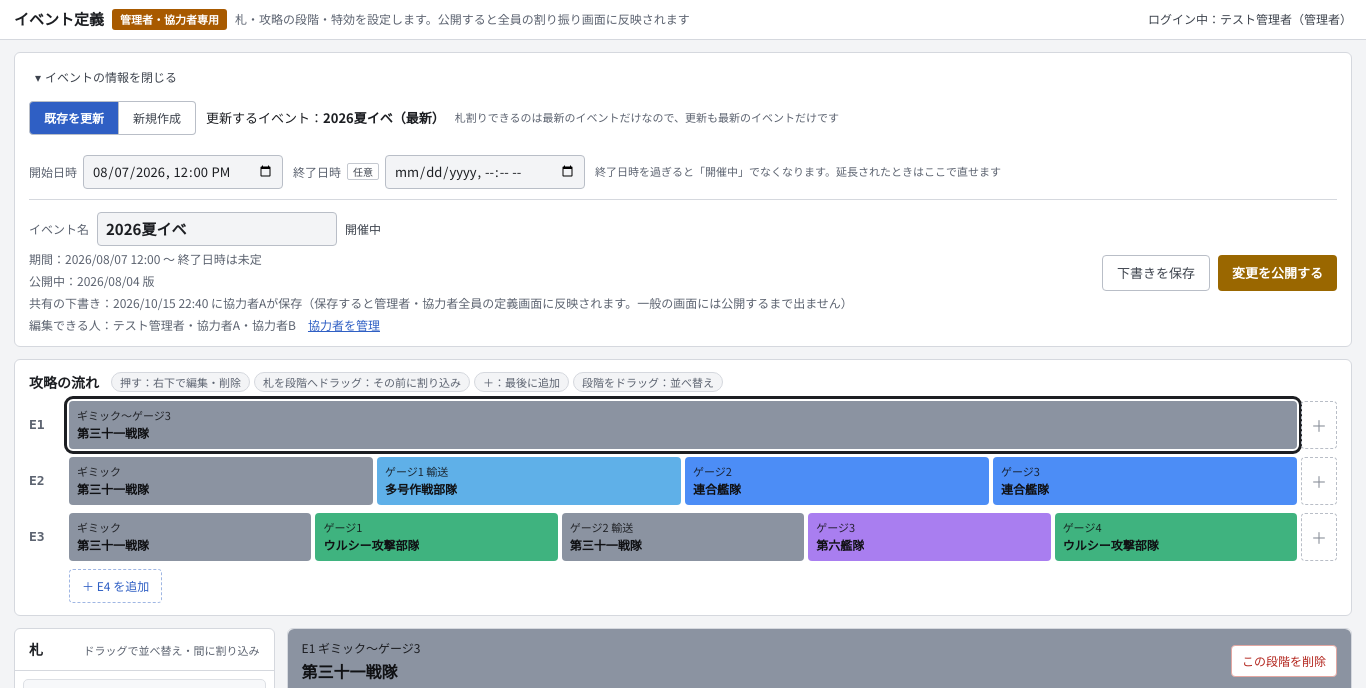
Test: イベント定義の画面（PlanEditor）：DB との結合（保管庫の差し替え・元にするイベントの読み込み中・公開の後） › 新規作成の元にするイベントの読み込み中（PR-11a の Codex の指摘） › 読み込みに失敗したら、本文を操作できる状態に戻す
Expected: the element "攻略の流れ" is shown, top-left (14, 358), bottom-right (1352, 616)
Click the radio button labelled "新規作成": (158, 118) top-left (119, 100), bottom-right (196, 134)
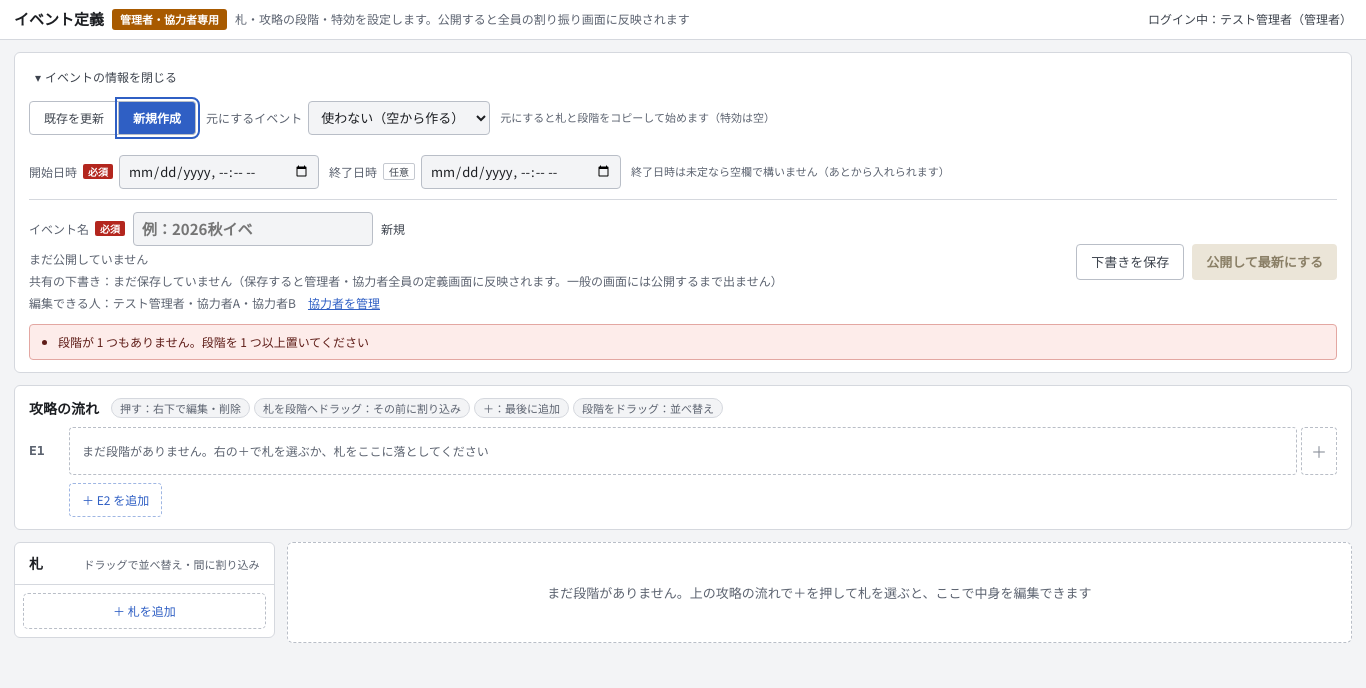
Select "2025秋イベ" in the dropdown labelled "元にするイベント": (399, 118) top-left (308, 100), bottom-right (490, 134)
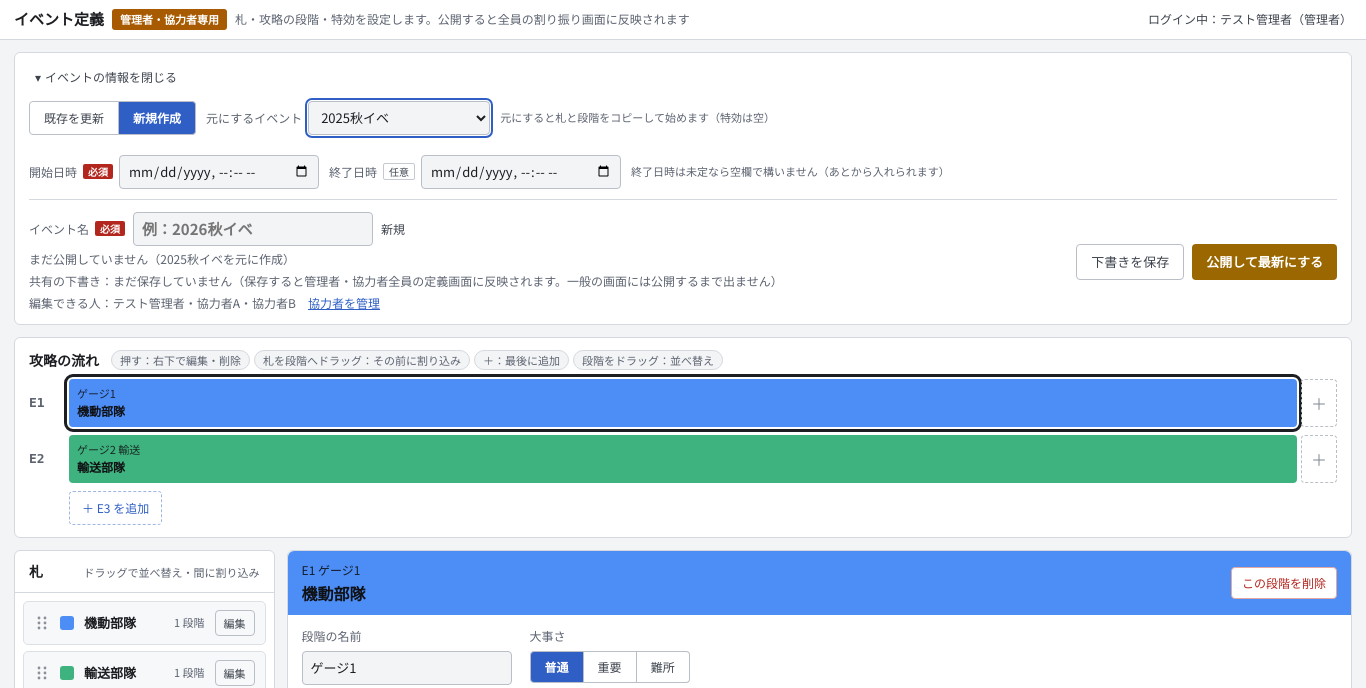
Select "2026夏イベ" in the dropdown labelled "元にするイベント": (399, 118) top-left (308, 100), bottom-right (490, 134)
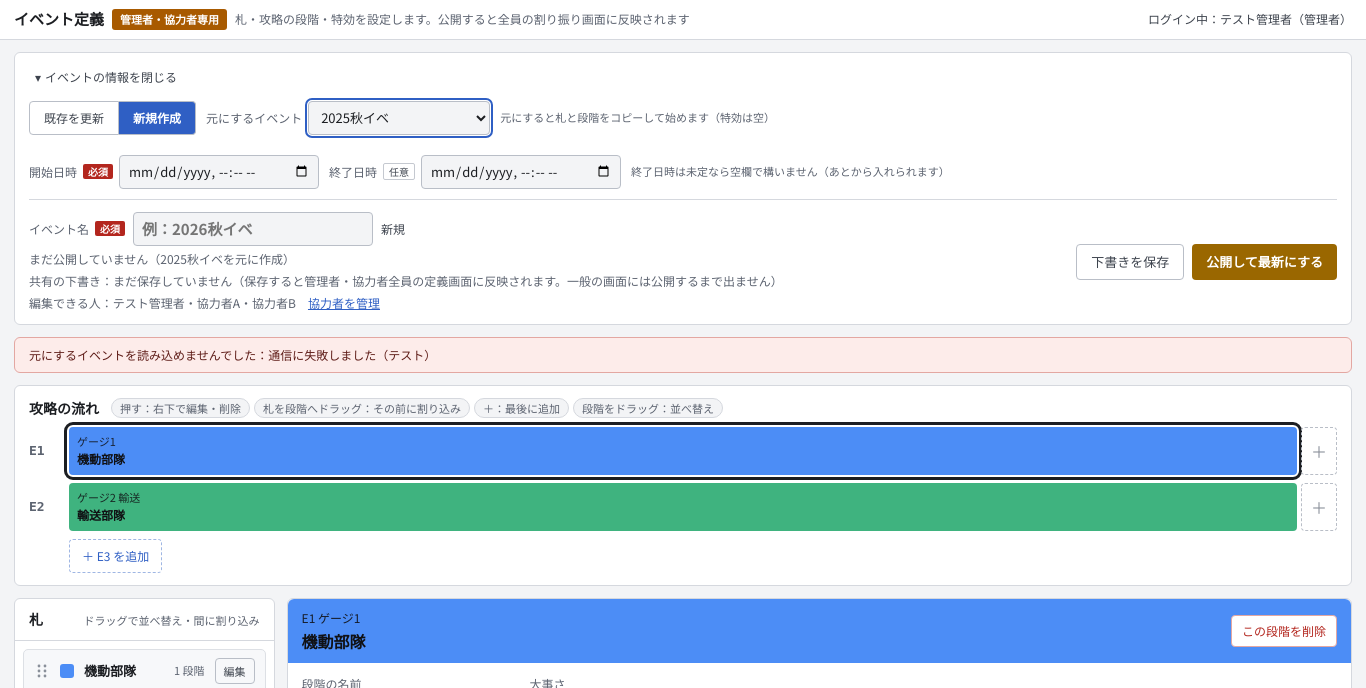
Expected: the message shows "通信に失敗しました（テスト）", top-left (29, 346), bottom-right (436, 362)
